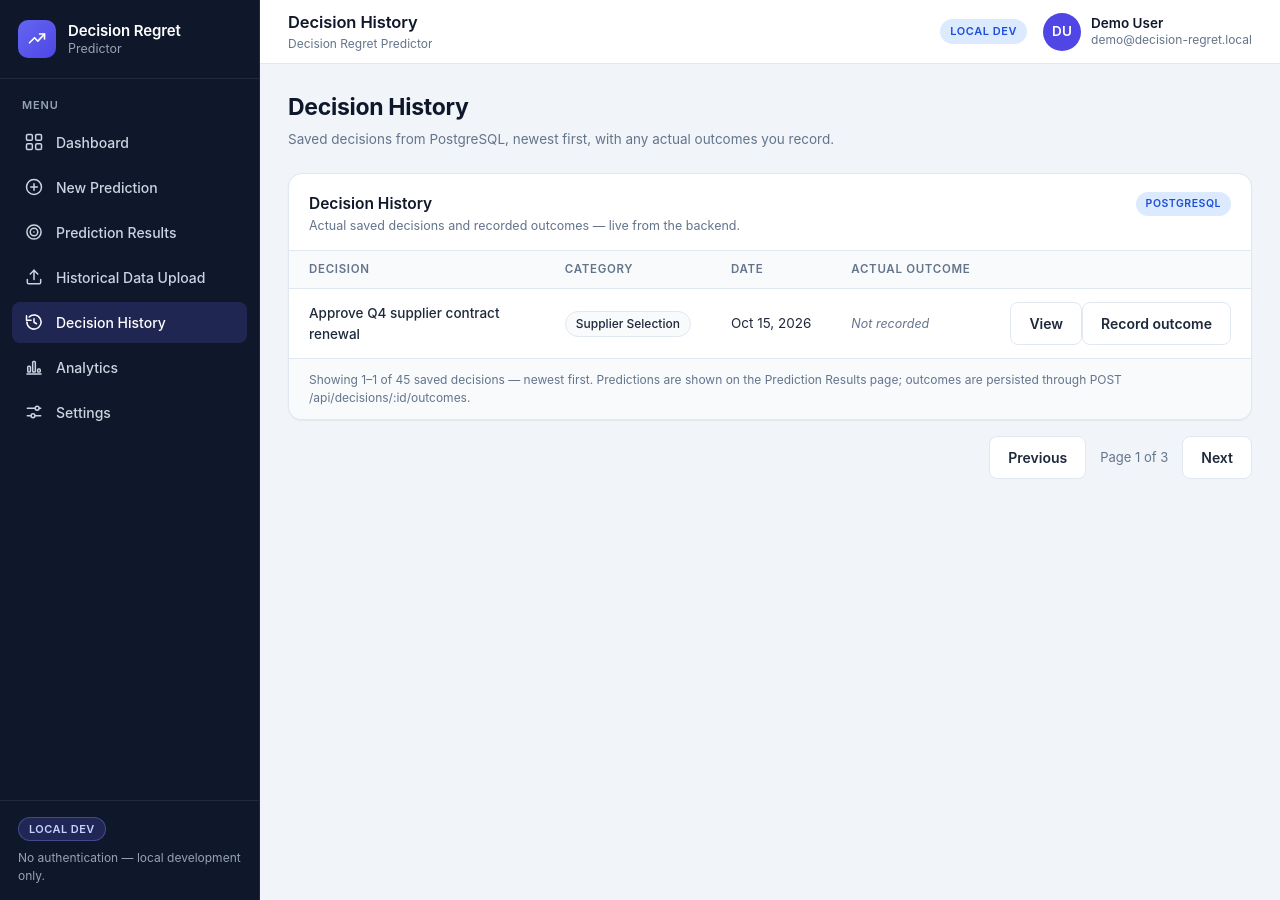
Test: Decision History › paginates with the server response
The width and height of the screenshot is (1280, 900).
Check: the text "Showing 1–1 of 45 saved decisions" is shown, box [309,372,1122,405]
Click the button "Next" at (1217, 458), box [1182,436,1252,479]
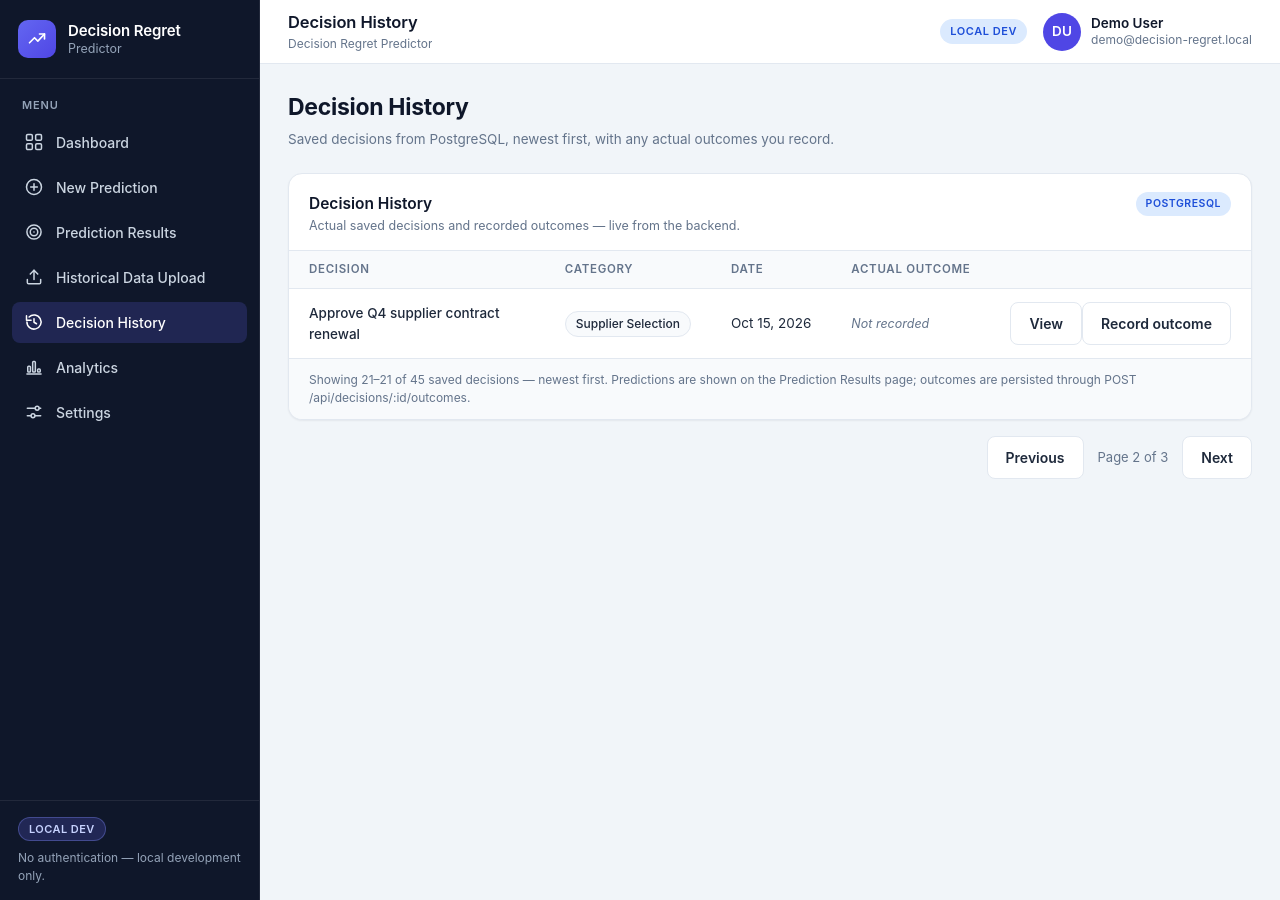
Check: the text "Showing 21–21 of 45 saved decisions" is shown, box [309,372,1136,405]
